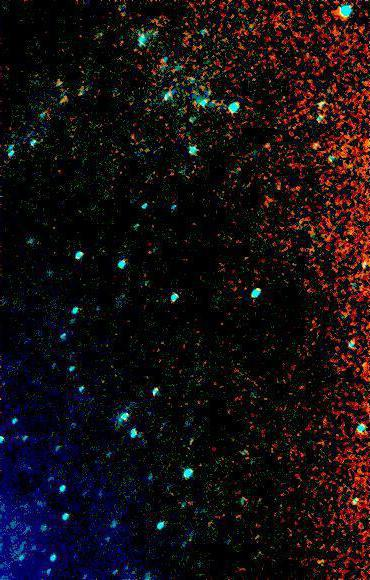star: (248, 132, 278, 162)
